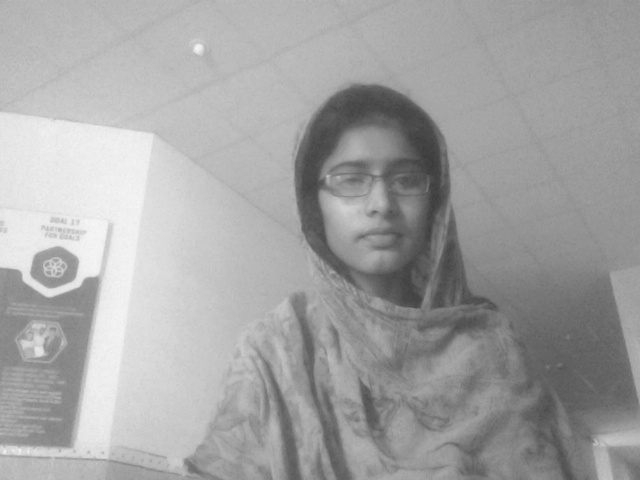Face: (152, 1, 506, 334)
